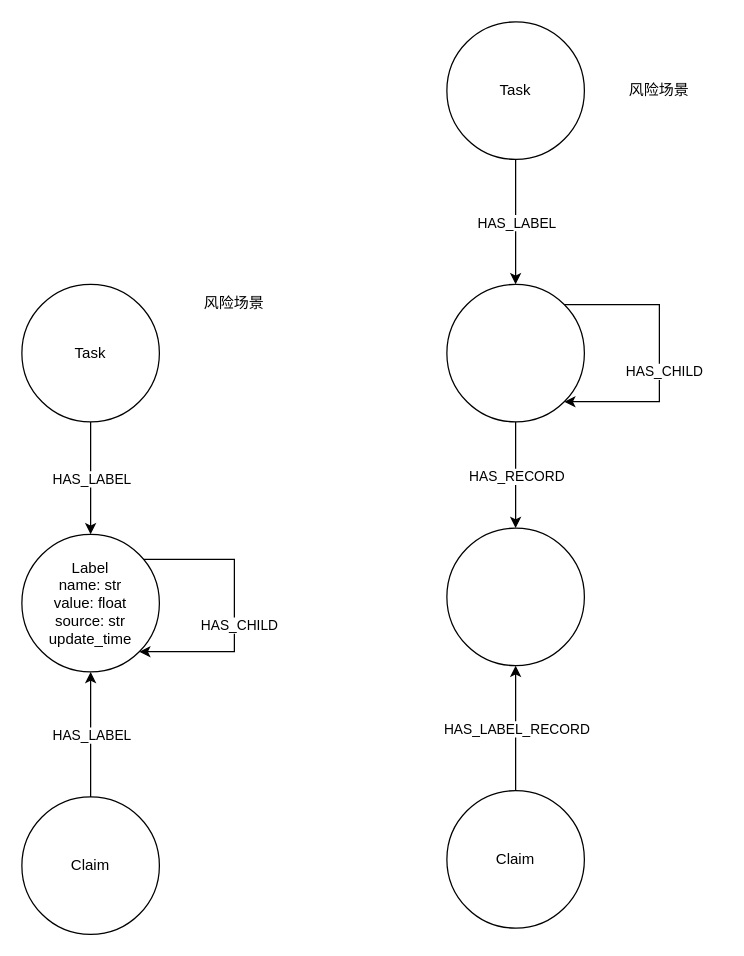
Some shapes in this 744 by 956 pixel diagram are drawn without their labels. The centre of each missing label's shape, as x and y in pixels:
"Label name: str value: float" goes at (515,352).
"LabelRecord name: str value: float source: str update_time" goes at (515,596).
